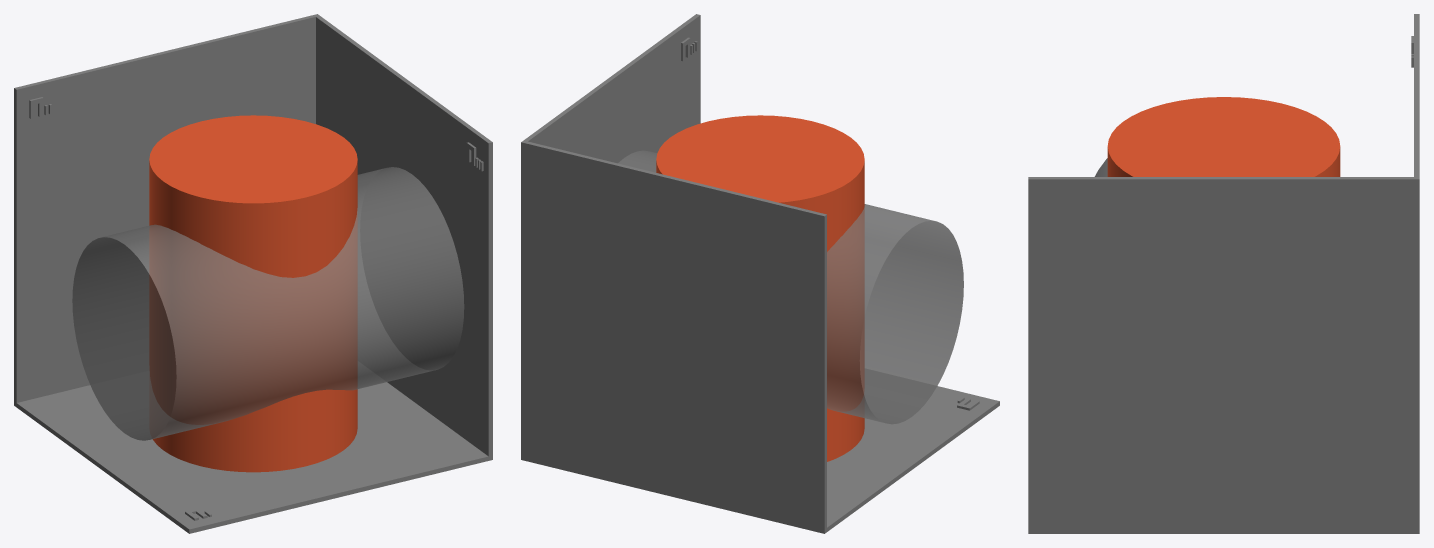
3 views of the same model, side by side, from view 1: azimuth 30°, elevation 25°; view 2: azimuth 150°, elevation 25°; view 3: azimuth 270°, elevation 25° (orthographic). The views are drawn at different scales.
Visible parts, largest first — view 1: body, Cylinder 2, Cylinder; view 2: body, Cylinder, Cylinder 2; view 3: body, Cylinder 2.
Part boxes in pixels (left/top/right/bottom): body: left=14, top=14, right=492, bottom=533; Cylinder 2: left=149, top=115, right=357, bottom=472; Cylinder: left=72, top=167, right=464, bottom=440; body: left=521, top=14, right=999, bottom=533; Cylinder: left=618, top=150, right=963, bottom=424; Cylinder 2: left=656, top=115, right=864, bottom=461; body: left=1028, top=14, right=1419, bottom=533; Cylinder 2: left=1107, top=97, right=1340, bottom=176.
Size of the model in its own units: 0.71 by 0.71 by 0.71.
